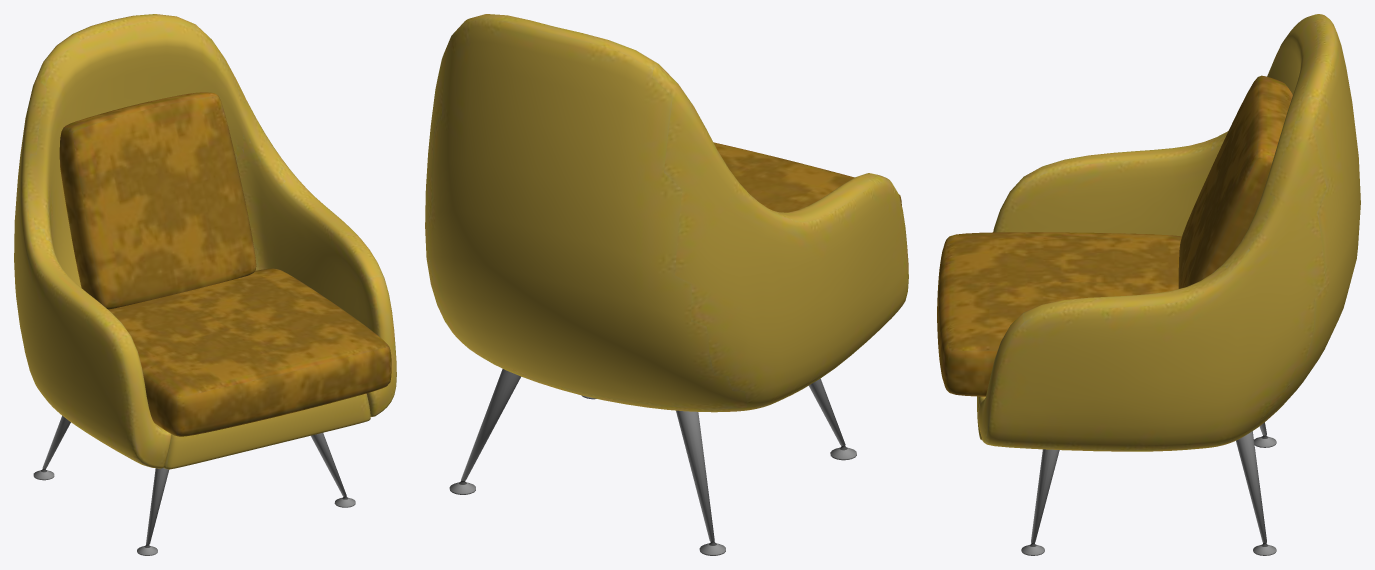
File: sh_scopia_armchair2.glb
3 views of the same model, side by side, from view 1: azimuth 30°, elevation 25°; view 2: azimuth 150°, elevation 25°; view 3: azimuth 270°, elevation 25° (orthographic). The views are drawn at different scales.
Bounding box in the file's own units: 0.728 × 0.97 × 0.812.
4 materials, 2 textured.
